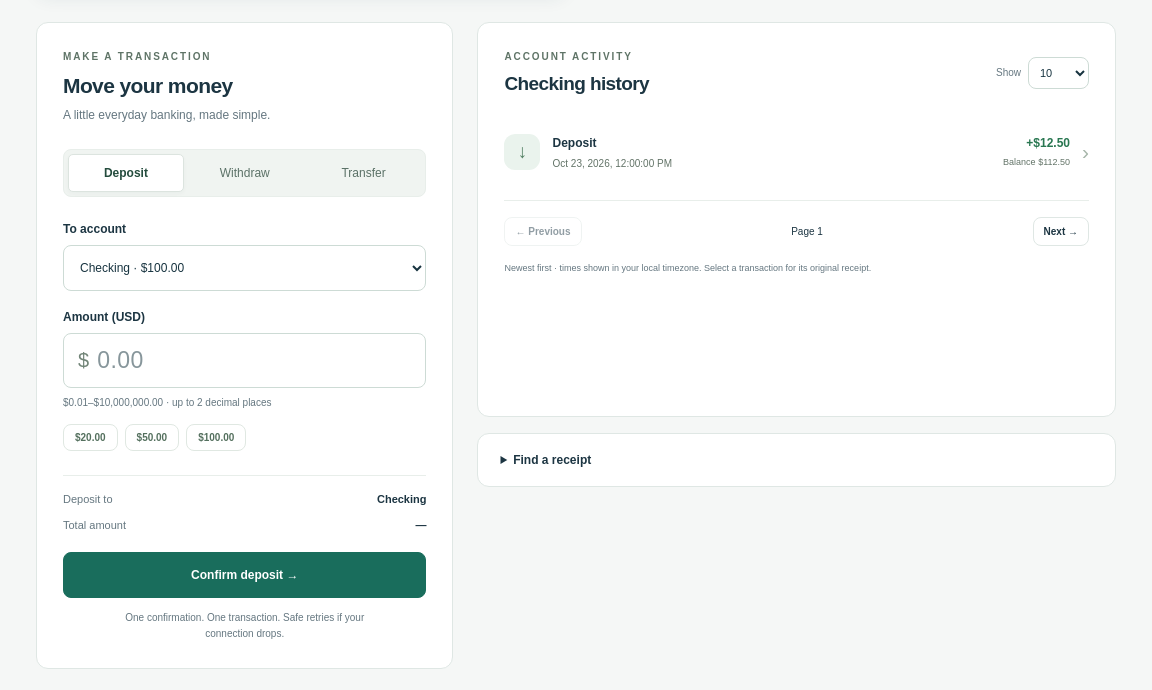
Test: retains a lost-response request for safe retry
(page scrolled)
Expected: the button "Confirm deposit →" is enabled, [63, 552, 426, 598]
Step 1. Type "12.50" into the field labelled "Amount (USD)" → {"x": 261, "y": 360}, box [97, 334, 426, 387]
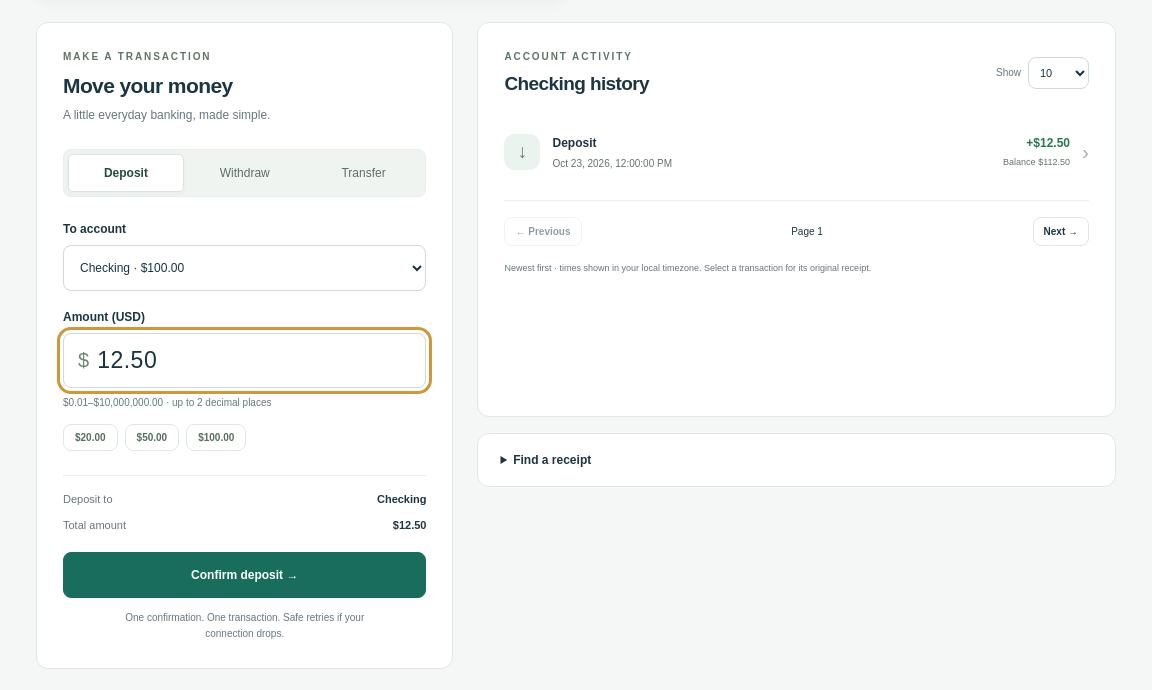
Step 2. Click the button "Confirm deposit →" → {"x": 245, "y": 575}, box [63, 552, 426, 598]
(page scrolled)
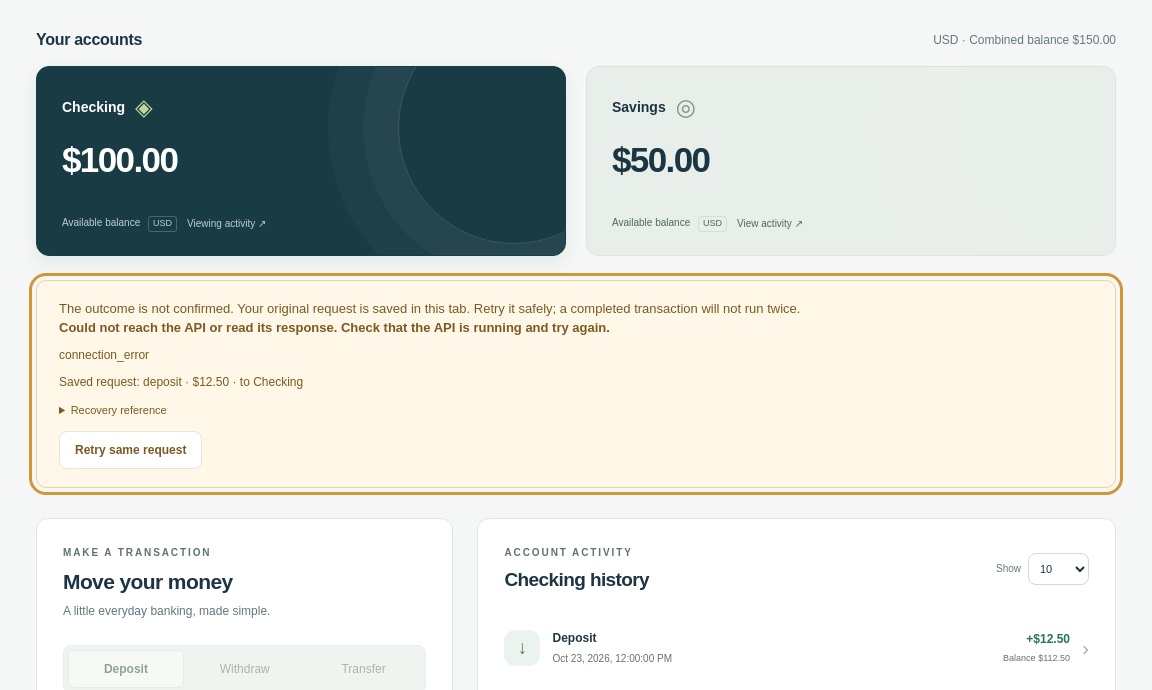
Now the button "Retry same request" is enabled, box [59, 431, 202, 469]
